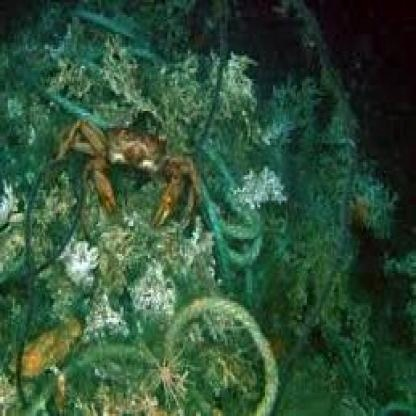net: (2, 49, 332, 416)
